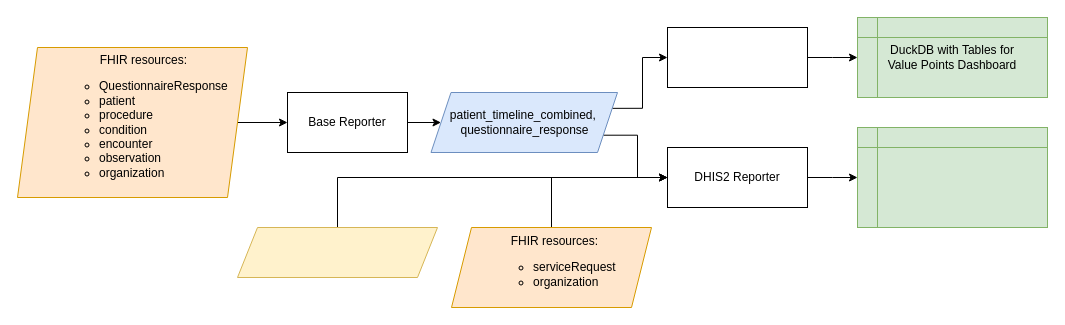
The diagram is 1065 pixels wide and 325 high, and some of its shapes have lost their labels. Each missing label, with the centre of its shape:
"CSV files for DHIS2 mapping" belongs at point 337,252.
"Parquet files for each DHIS2 report Duckdb with all DHIS2 reports" belongs at point 952,177.
"Value Points Reporter" belongs at point 737,57.
